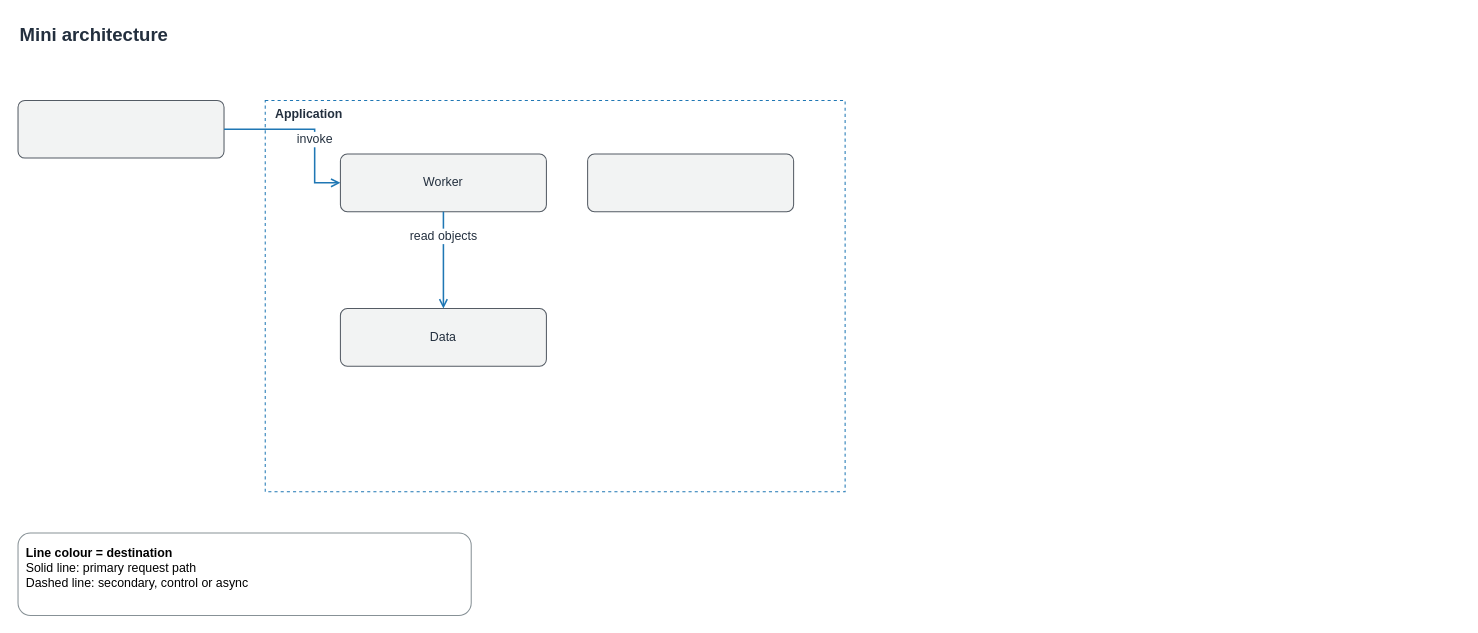
Image size: 1478x633. Some labels were removed from this diagram. Here are the shapes that lost their labels. From the top down, the centre of each, then its label:
point 120,128: Users
point 690,182: Datadog monitors alerts
